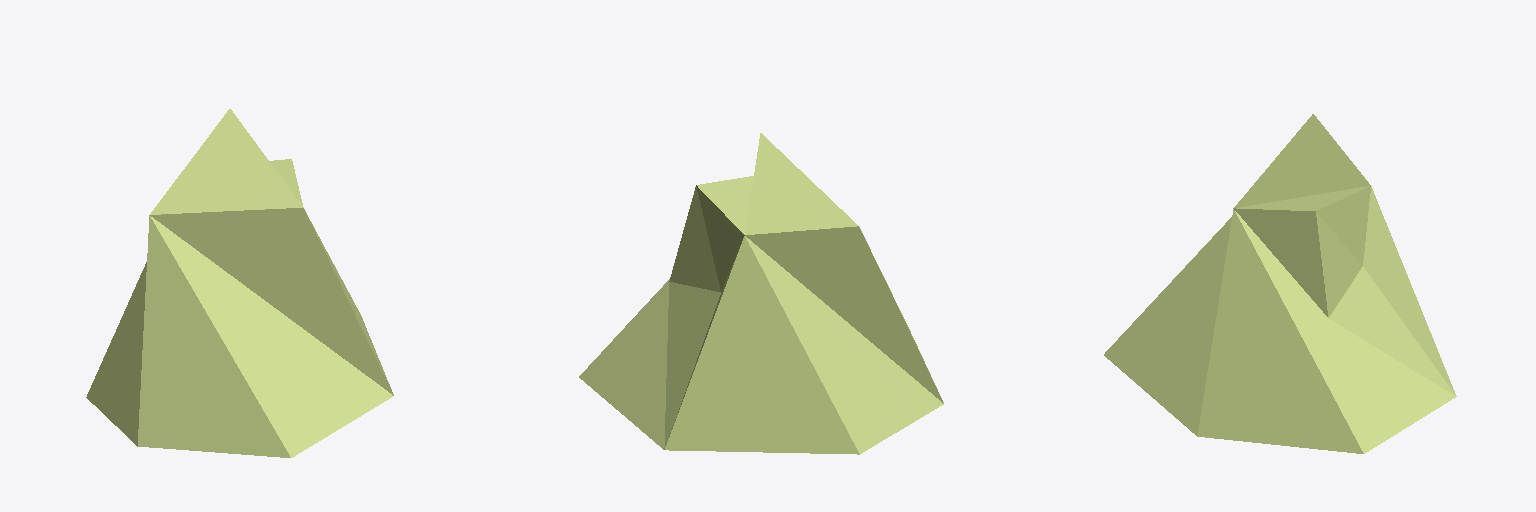
The model's file is gora3.obj.
The picture shows the model from 3 angles: view 1: azimuth 30°, elevation 25°; view 2: azimuth 150°, elevation 25°; view 3: azimuth 270°, elevation 25°; orthographic projection.
Visible parts, largest first — view 1: GeoSphere016; view 2: GeoSphere016; view 3: GeoSphere016.
Part boxes in pixels (x1,y1,x2,y2): GeoSphere016: (86,109,393,457); GeoSphere016: (579,133,943,454); GeoSphere016: (1104,114,1456,453).
Size of the model in its own units: 263 by 235 by 273.